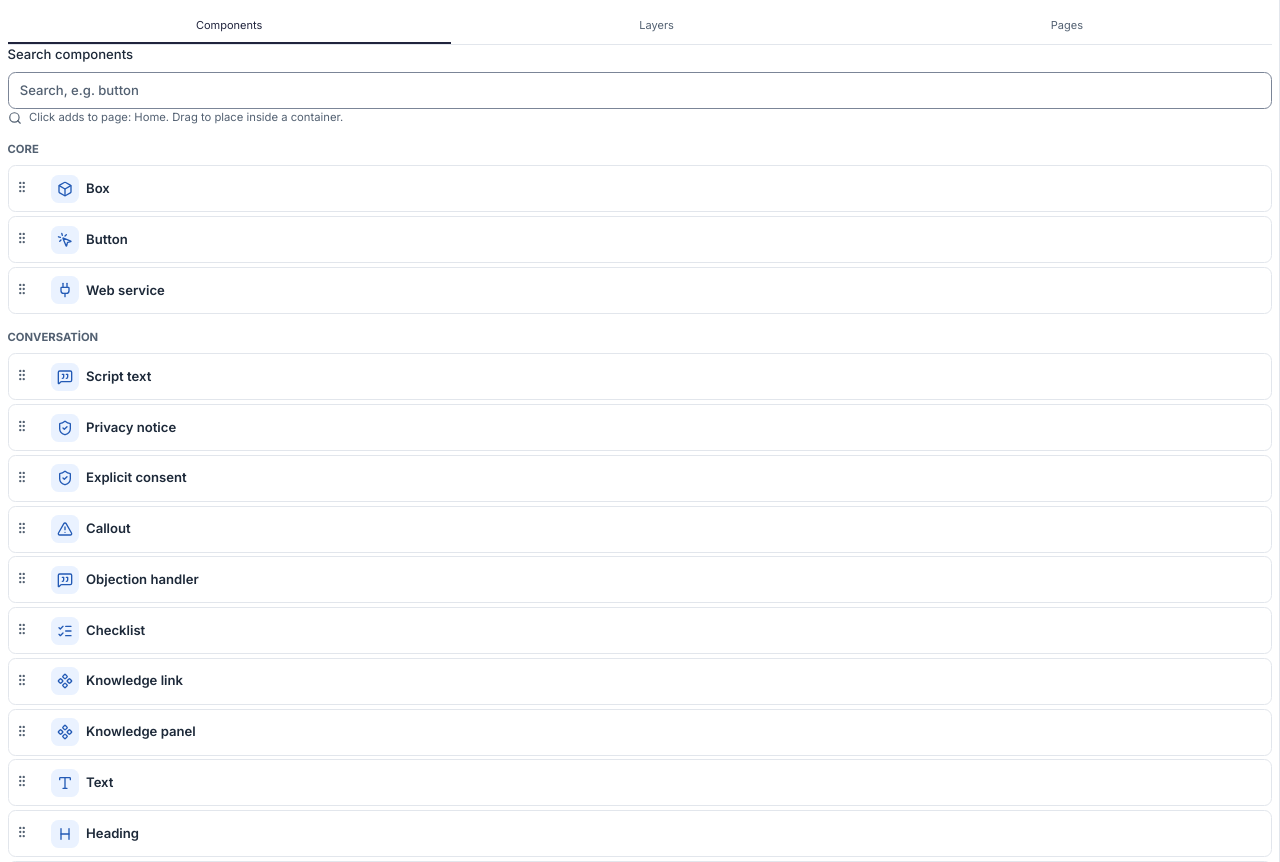
it: finds displayed localized content and tolerates Turkish accents without searching unrelated messages
This screenshot has width=1280, height=862.
Press the mouse on the tab "Layers" at (657, 26), box [451,8,862,44]
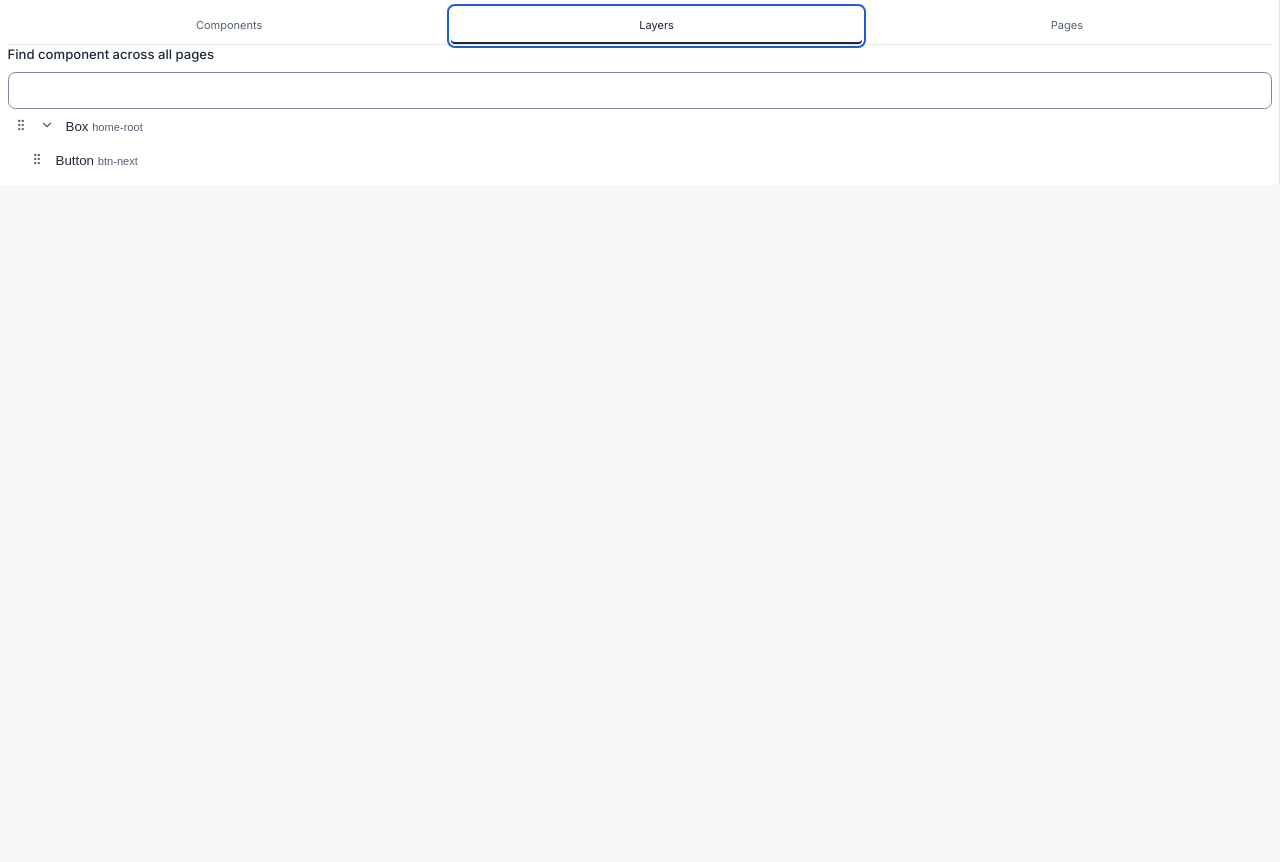
Type " KARGO DESTEGI " into the field labelled "Find component across all pages" at (640, 90), box [8,72,1272,109]
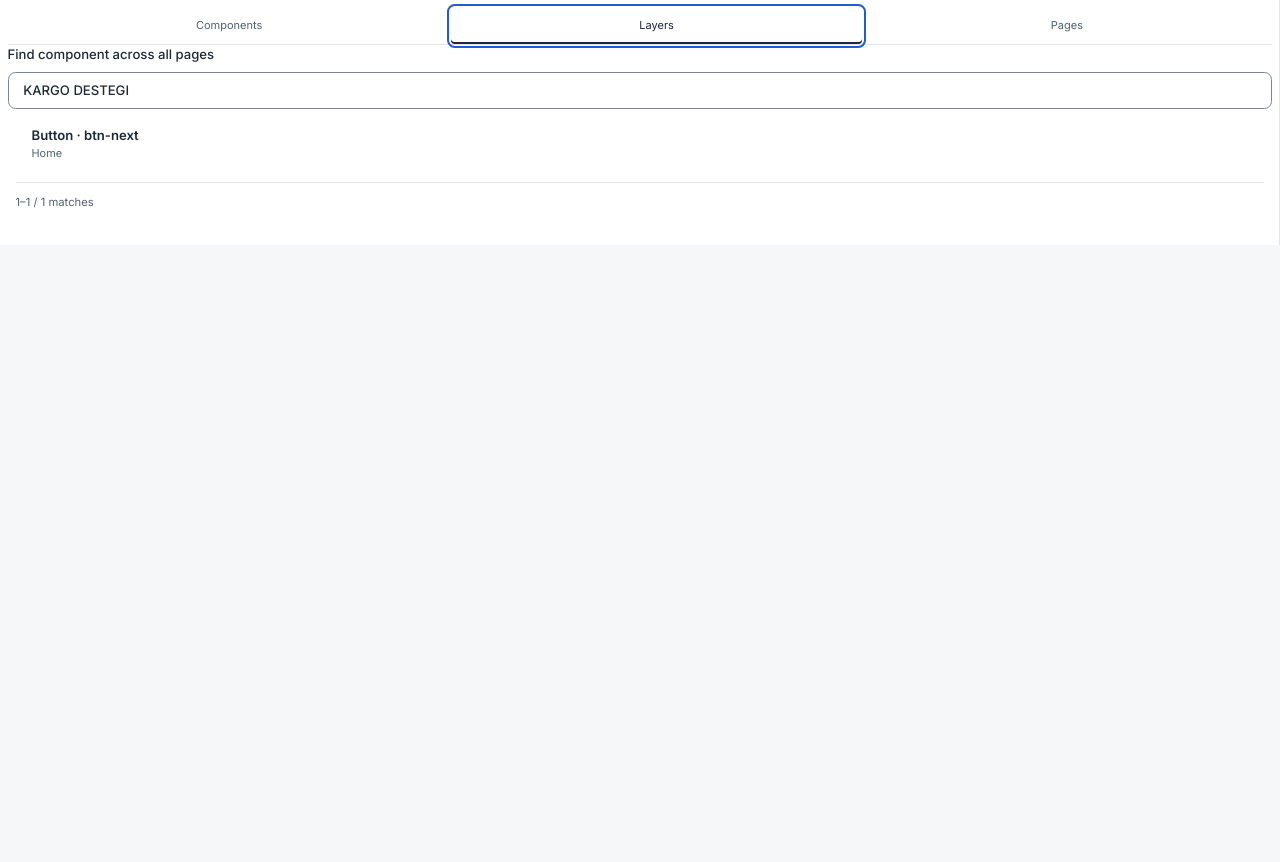
Expected: the button "Button · btn-next Home" is shown, [16,117,1264,170]
Replace the text in the field labelled "Find component across all pages" with "unrelated secret" at (640, 90), box [8,72,1272,109]
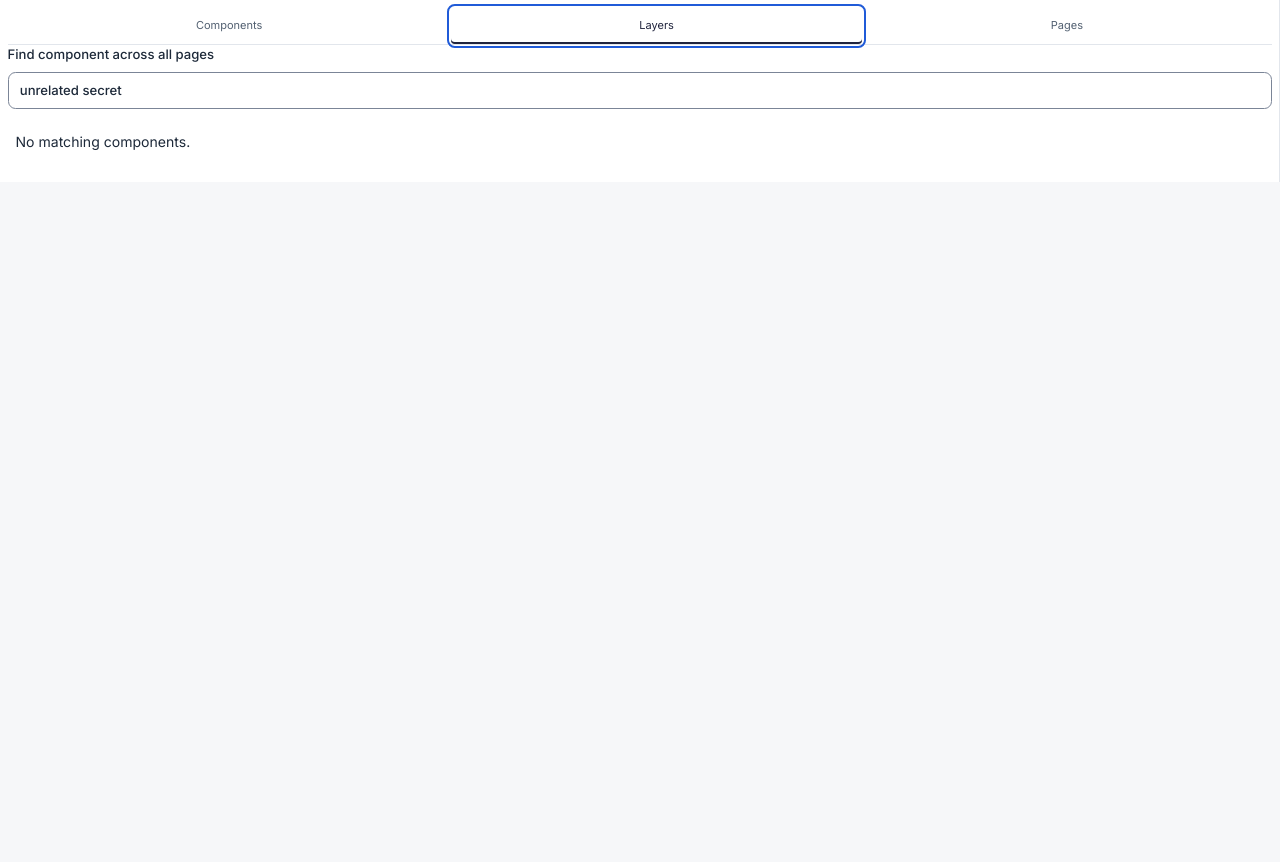
Expected: the text "No matching components." is shown, [16,133,190,150]
